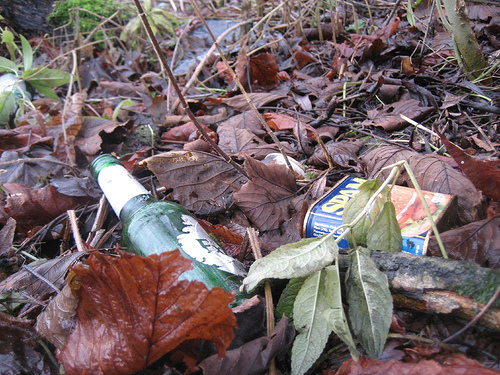litter: (88, 155, 257, 307), (302, 175, 458, 254)
